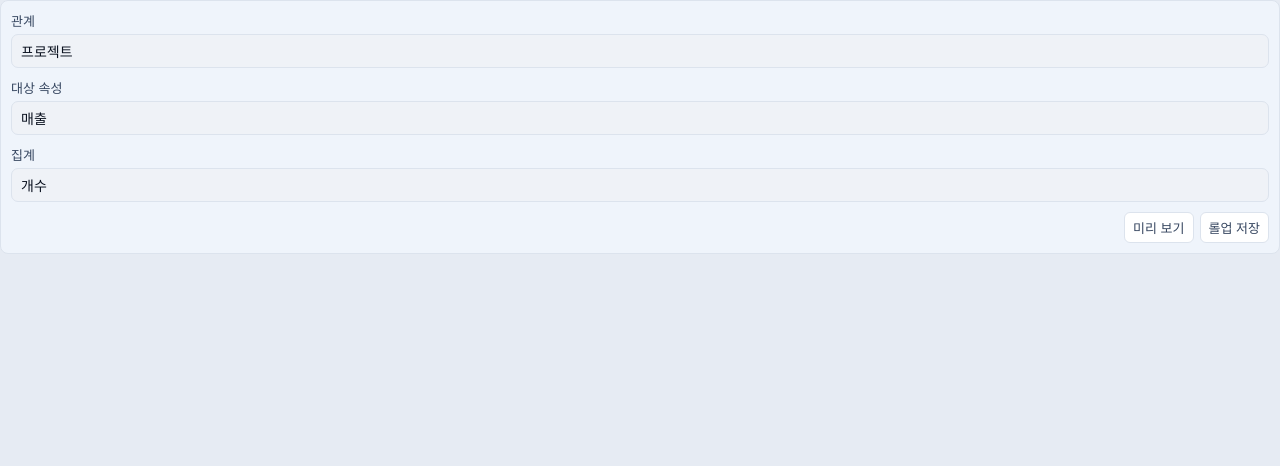
Test: formula and rollup editors › selects relation, target property and every rollup aggregation while keeping the result read-only
Step 1. Click the button with aria-label "집계" → {"x": 34, "y": 186}, box [11, 168, 1269, 202]
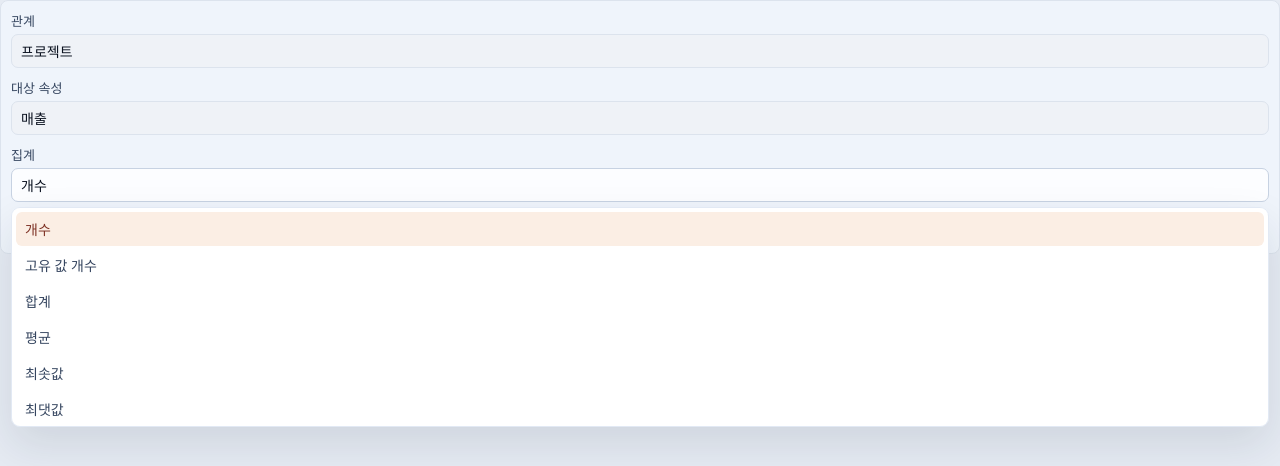
Step 2. Click the option "합계" → {"x": 38, "y": 302}, box [16, 284, 1264, 318]
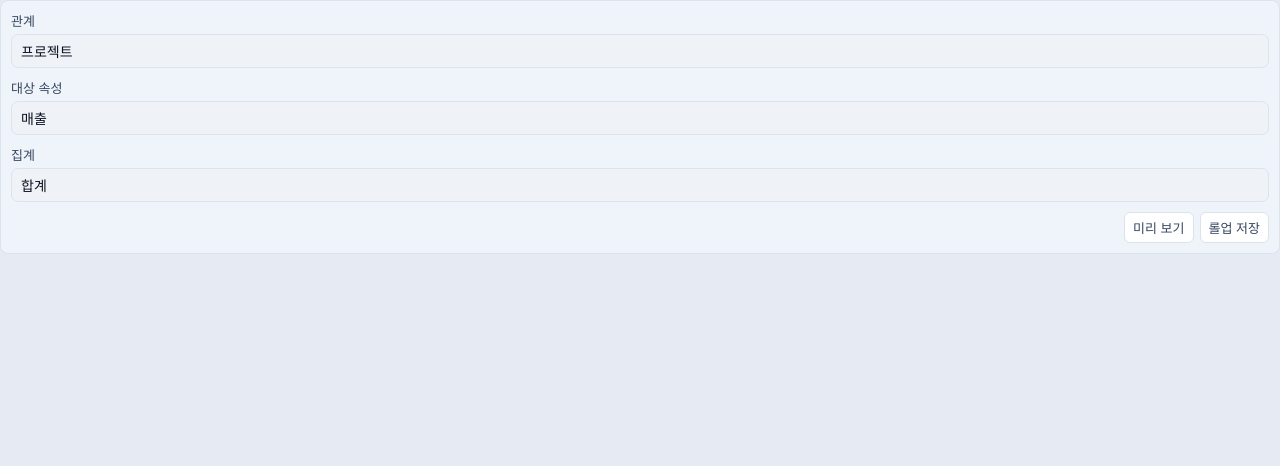
Step 3. Click the button "롤업 저장" → {"x": 1234, "y": 228}, box [1200, 212, 1269, 243]
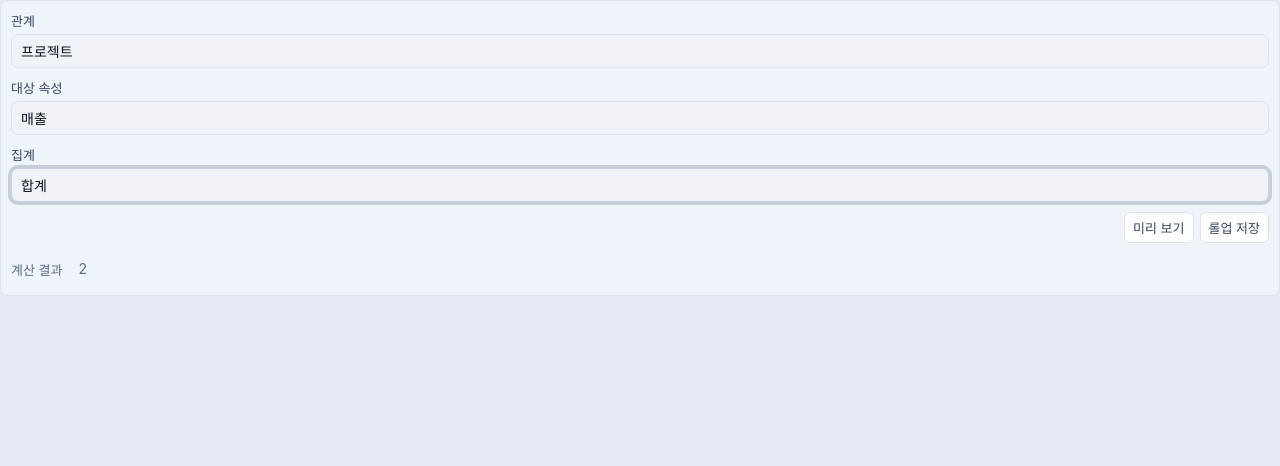
Check: the text "2" is shown, box [78, 260, 87, 277]
